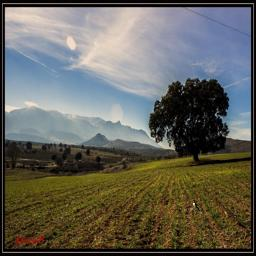Swallow: (193, 200, 202, 214)
